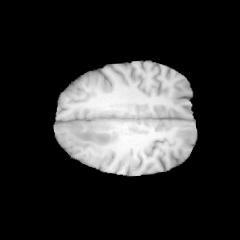glioma: (72, 121, 117, 145)
